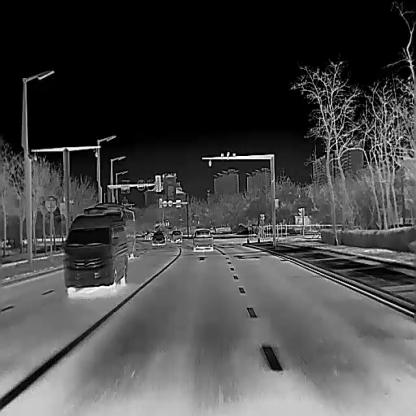bus: (86, 202, 136, 258)
car: (62, 214, 127, 288), (192, 228, 212, 252), (151, 230, 164, 245), (170, 229, 182, 243)
